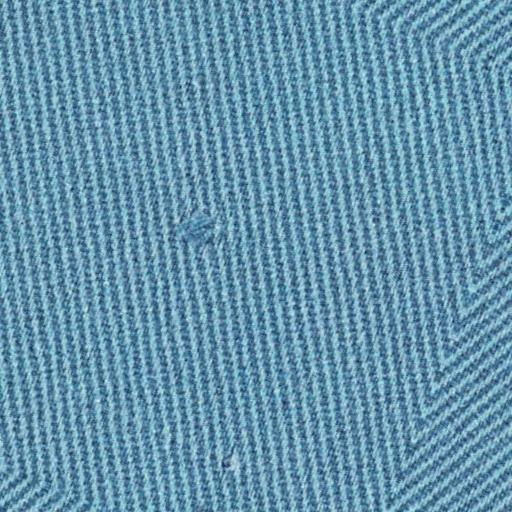knot: (172, 202, 229, 249)
